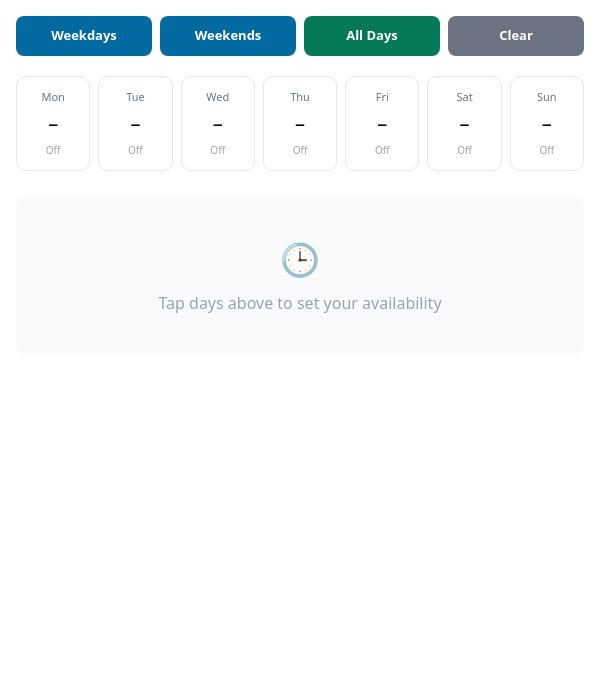
it: PlayerAvailability › quick preset buttons work correctly
Check: the text "Mon" is shown, box [41,88,65,104]
Test "Weekdays" button
Click the button "Weekdays": click(84, 36) [16,16,152,56]
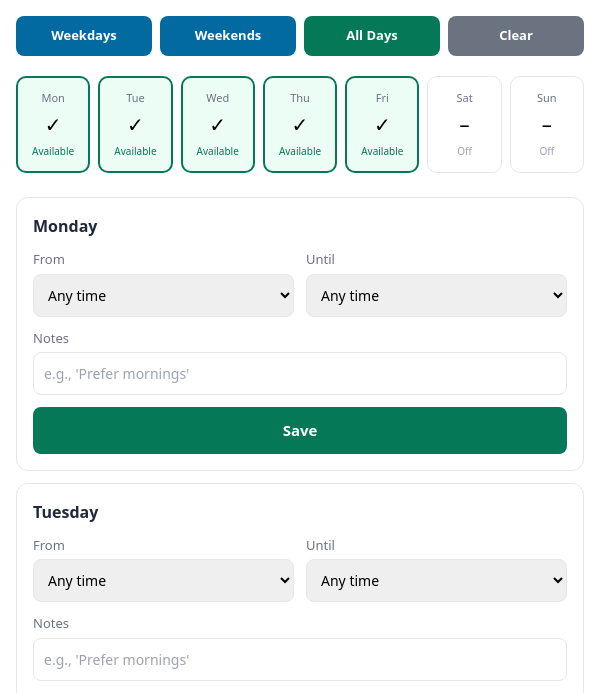
Check: the button "Sat – Off" is shown, box [427,76,502,173]
Check: the button "Mon ✓ Available" is shown, box [16,76,90,173]
